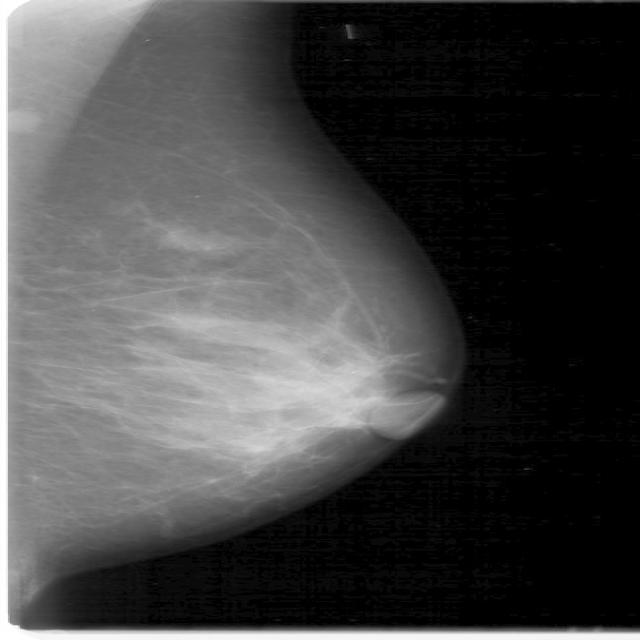tumour: (160, 223, 235, 252)
